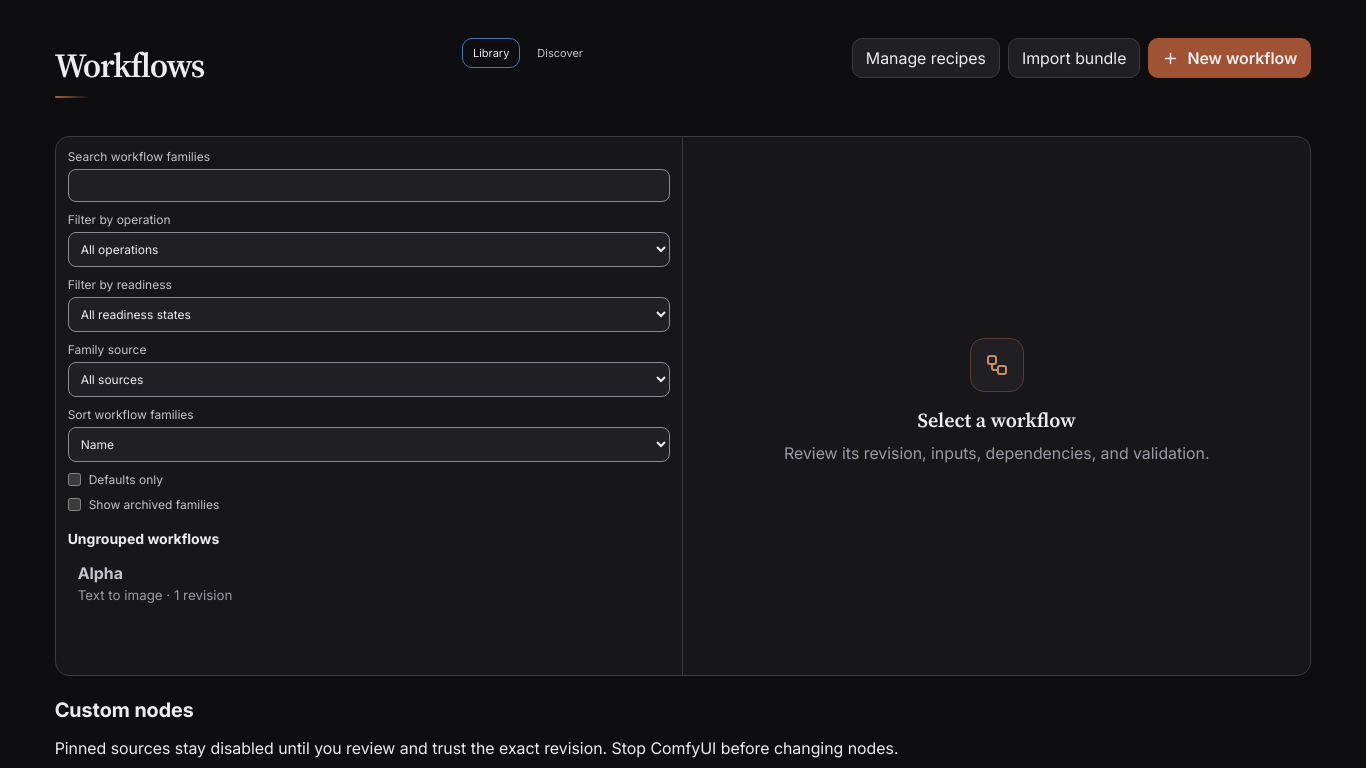
Test: opens on the library and asks no remote source anything until Discover is chosen
Expected: the text "Alpha" is shown, x1=78 y1=563 x2=123 y2=583
What coordinates should you click on to do the following:
click the button "Discover"
I would click on:
 (560, 53)
Its box is x1=526 y1=38 x2=594 y2=68.
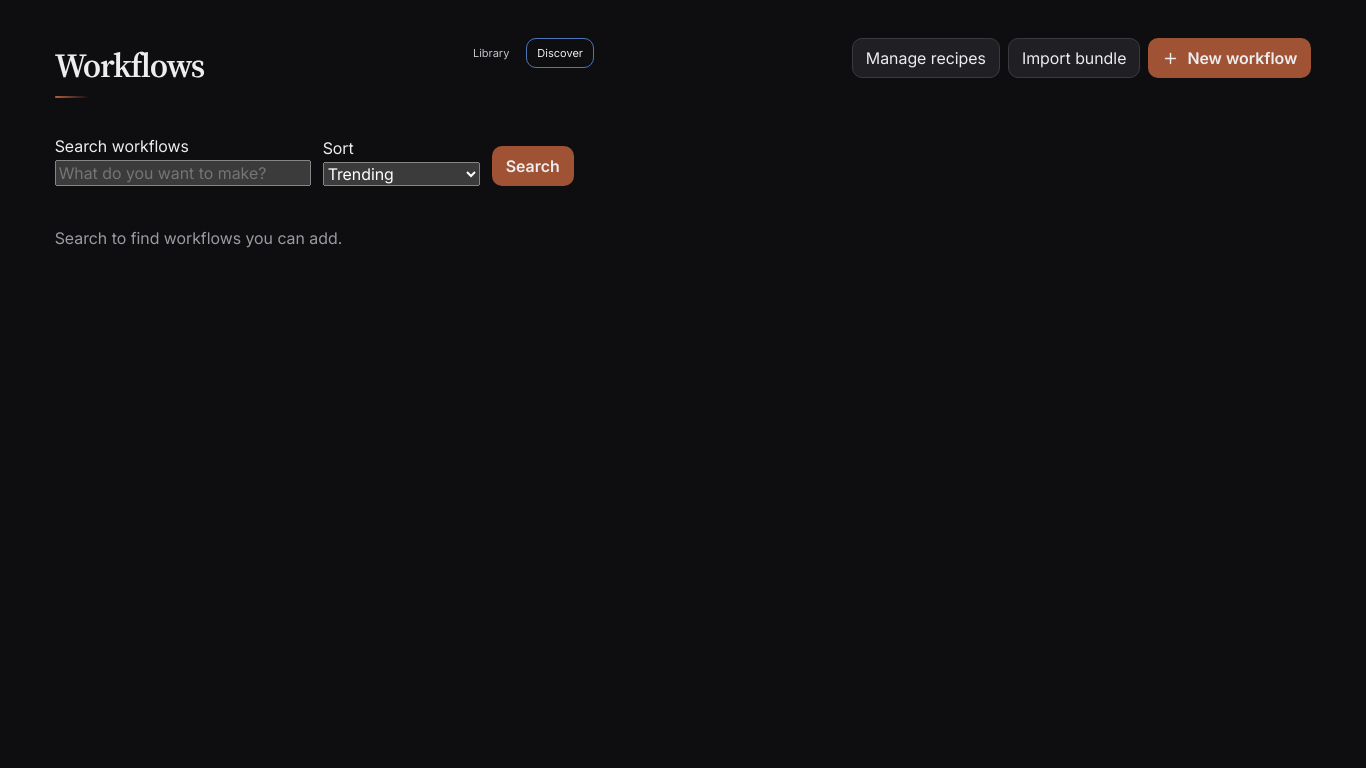
Expected: the element named "Discover workflows" is shown, x1=55 y1=136 x2=574 y2=248
